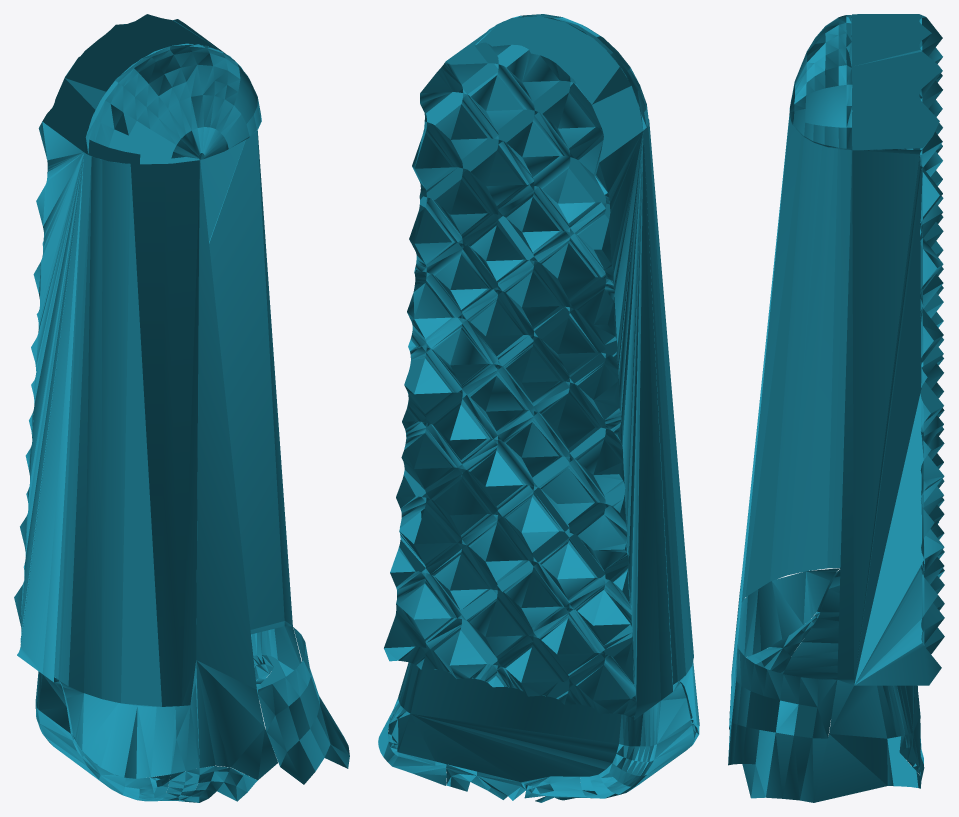
Rendered from gripper_1.obj.
3 renders of one model, left to right at view 1: azimuth 30°, elevation 25°; view 2: azimuth 150°, elevation 25°; view 3: azimuth 270°, elevation 25°, orthographic. The views are drawn at different scales.
Parts seen in each view (by area): view 1: 330174_W01_DC_Shell; view 2: 330174_W01_DC_Shell; view 3: 330174_W01_DC_Shell.
Part boxes in pixels (x1=…): 330174_W01_DC_Shell: x1=14, y1=14, x2=349, y2=802; 330174_W01_DC_Shell: x1=378, y1=14, x2=699, y2=802; 330174_W01_DC_Shell: x1=728, y1=14, x2=944, y2=802.
Bounding box in the file's own units: 0.0921 × 0.2382 × 0.0655.
